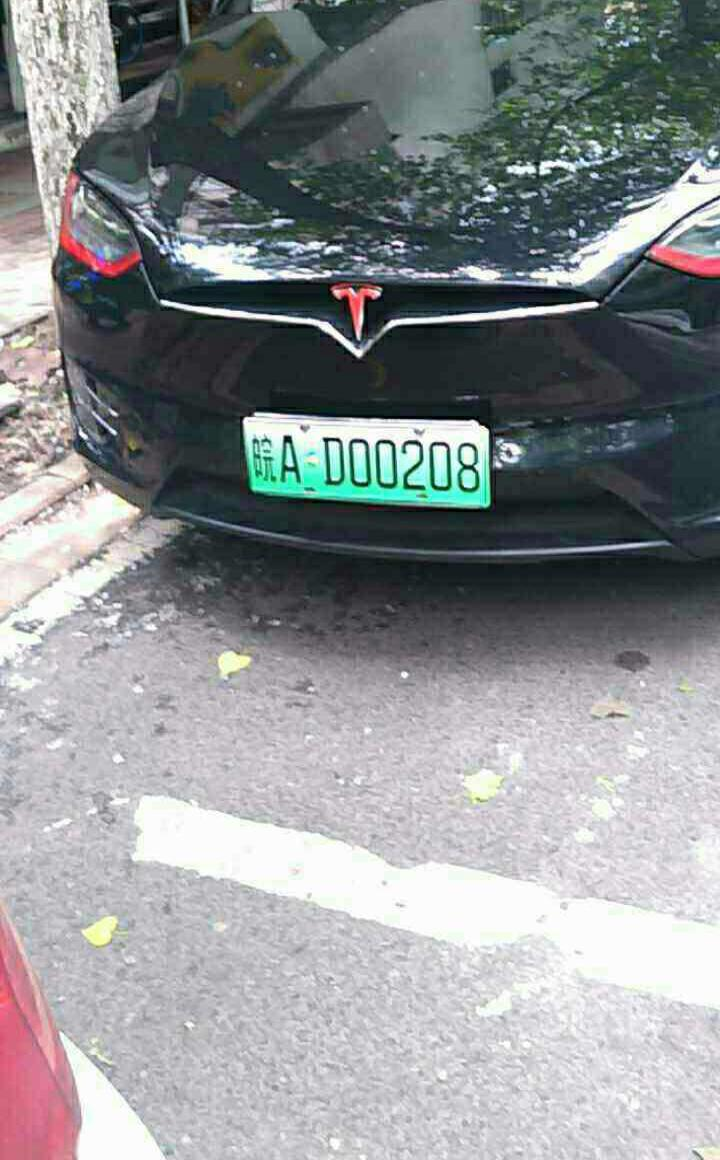car_green: (231, 406, 504, 522)
